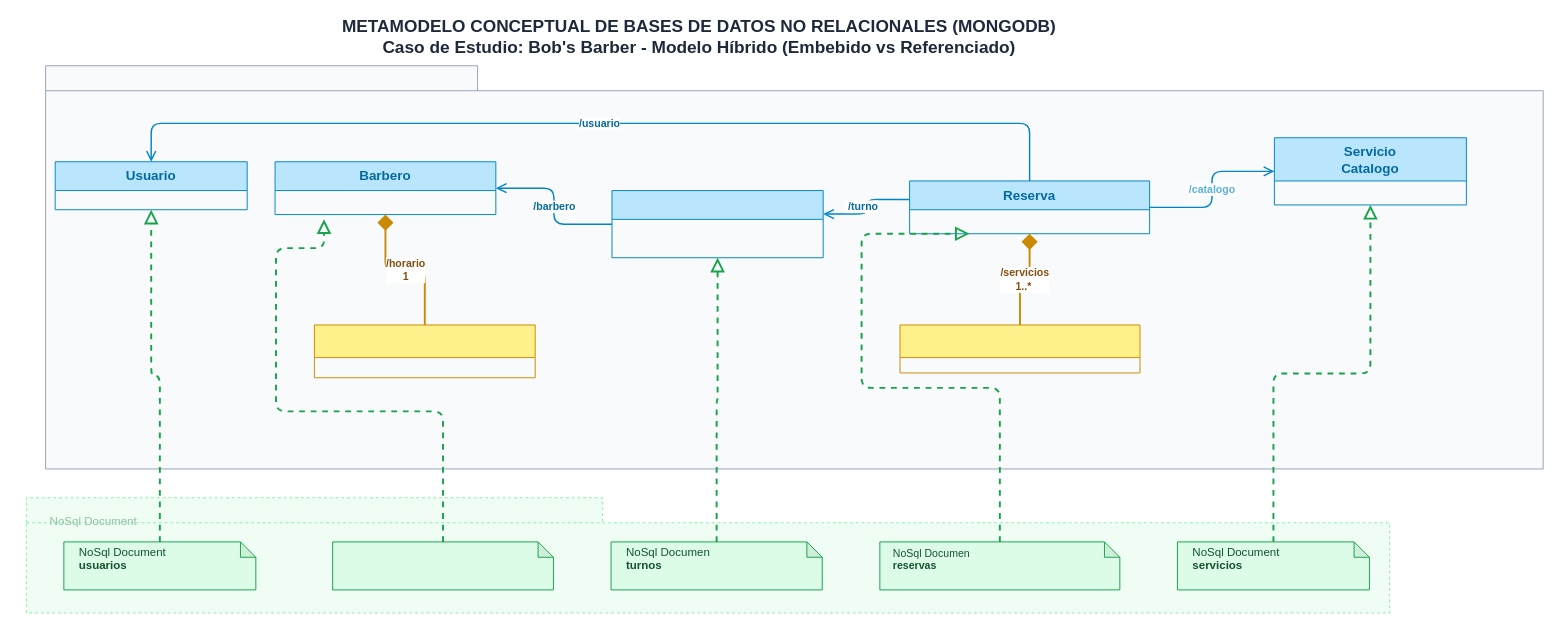
Some shapes in this 1560 by 630 pixel diagram are drawn without their labels. Here are the shapes that lost their labels. From the top down, the box of each, then its label:
(611, 190, 823, 258): Turno
(313, 324, 535, 378): HorarioDisponibilidad
(899, 324, 1140, 373): ServicioSnapshot
(332, 541, 553, 590): NoSql Document barberos
